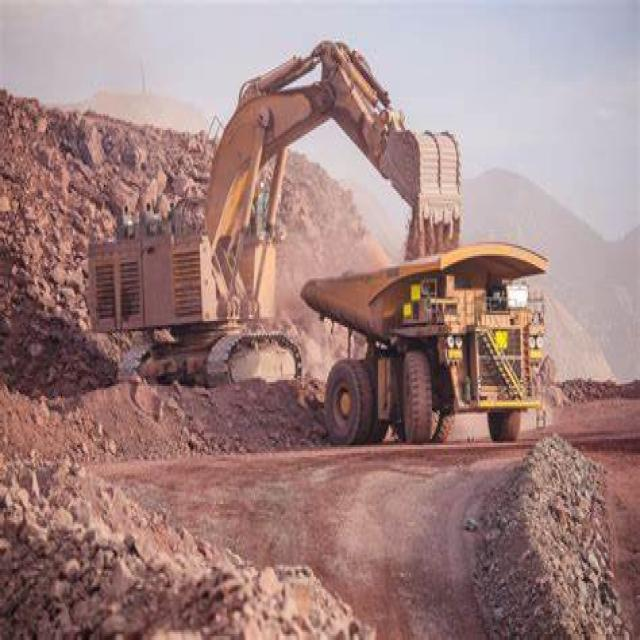dump_truck: (288, 209, 534, 429)
excavator: (70, 39, 460, 469)
